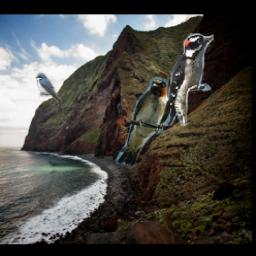Swallow: (115, 76, 170, 166), (35, 74, 62, 103)
Woodpecker: (166, 34, 215, 127)
